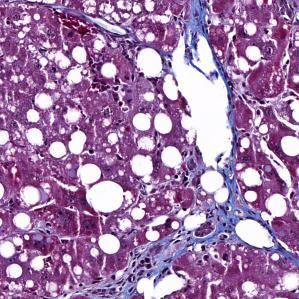fibrosis: (168, 206, 238, 263)
